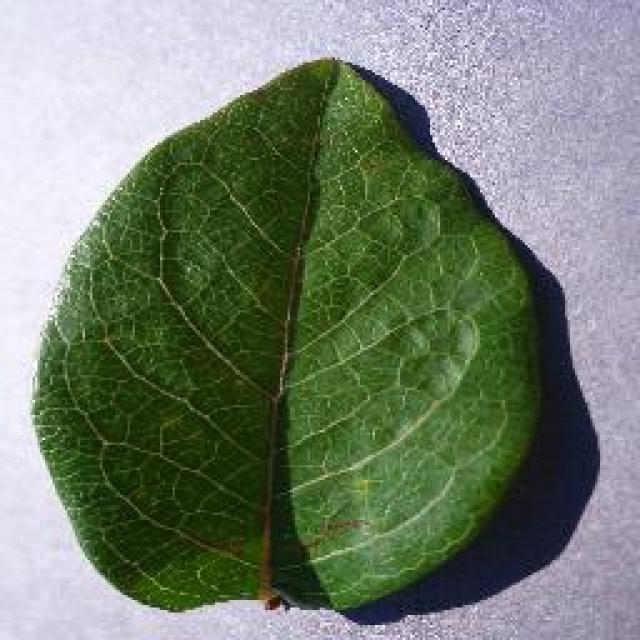Blu_healthy: (49, 135, 524, 543)
